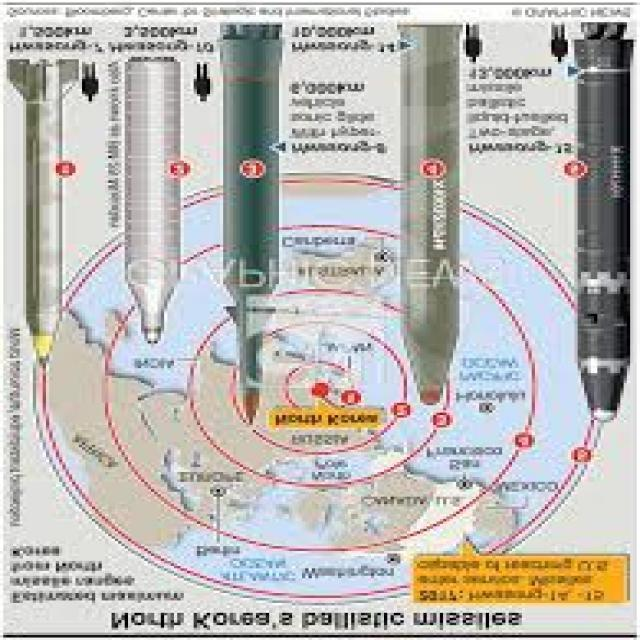Missile: (561, 18, 638, 417), (22, 68, 61, 368)
